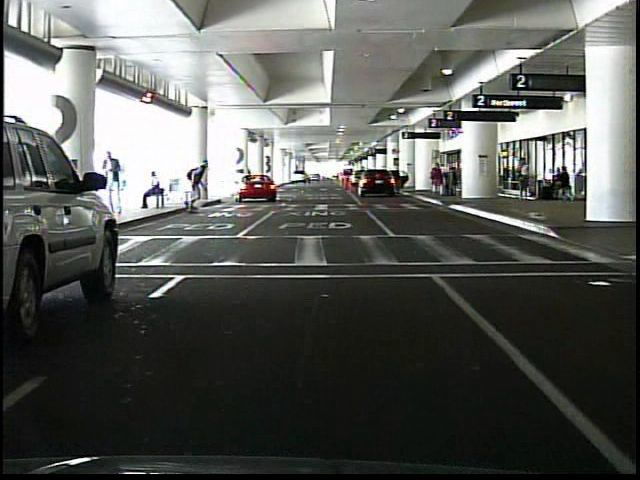person: (181, 159, 215, 214), (106, 152, 126, 216), (140, 171, 164, 211), (429, 163, 446, 199), (520, 156, 533, 200), (453, 164, 454, 197)
